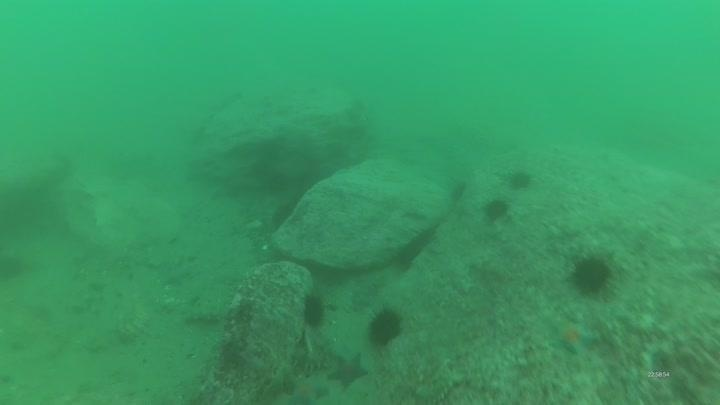echinus: (568, 252, 615, 297), (365, 305, 405, 348), (299, 291, 329, 331), (1, 250, 28, 284), (481, 196, 511, 223), (506, 167, 535, 192), (446, 178, 469, 204)
holothurian: (283, 346, 332, 369), (184, 304, 229, 325)
starfish: (547, 315, 599, 357), (326, 350, 371, 390), (285, 374, 330, 405)
